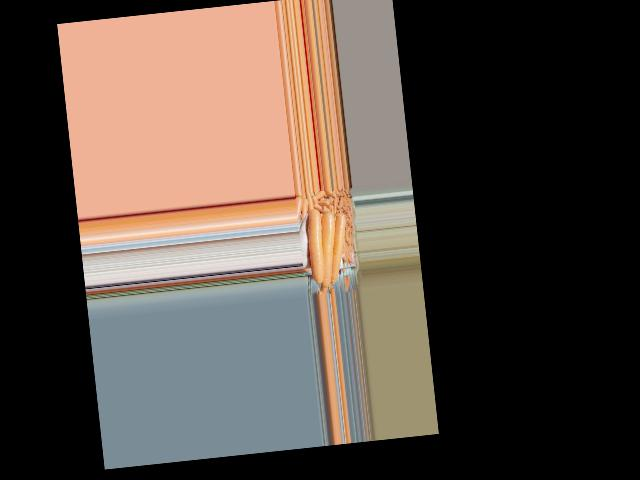carrot: (305, 207, 332, 287)
